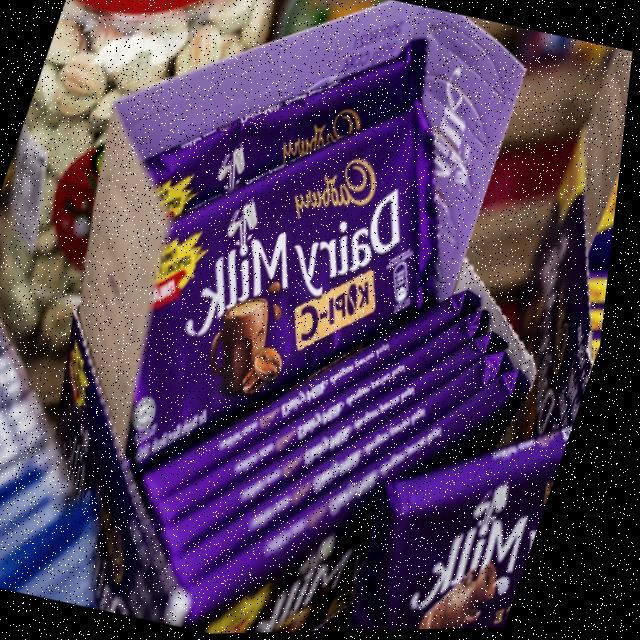cadbury: (80, 43, 510, 550)
